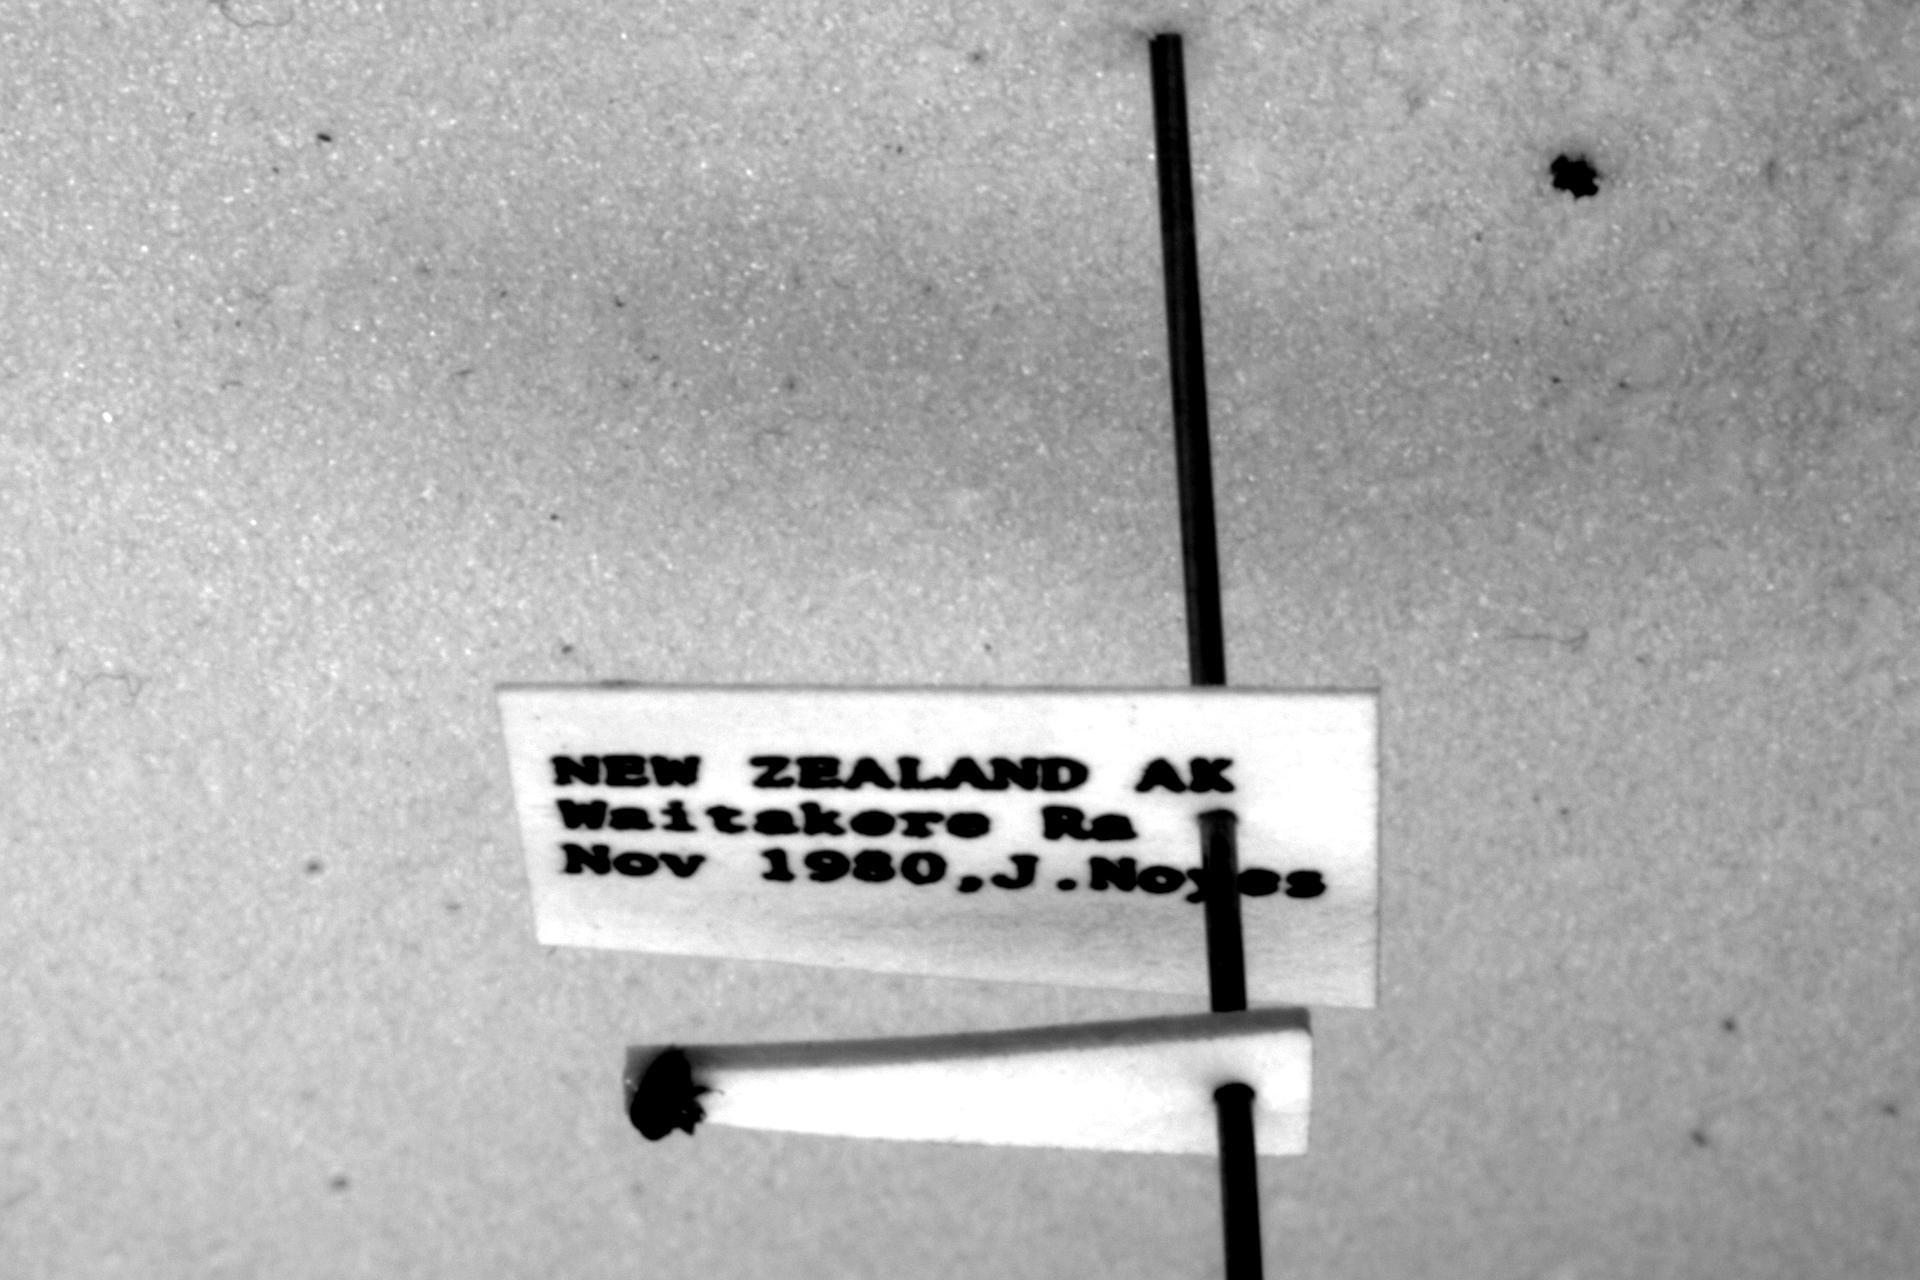typed_label: (499, 686, 1380, 1009)
